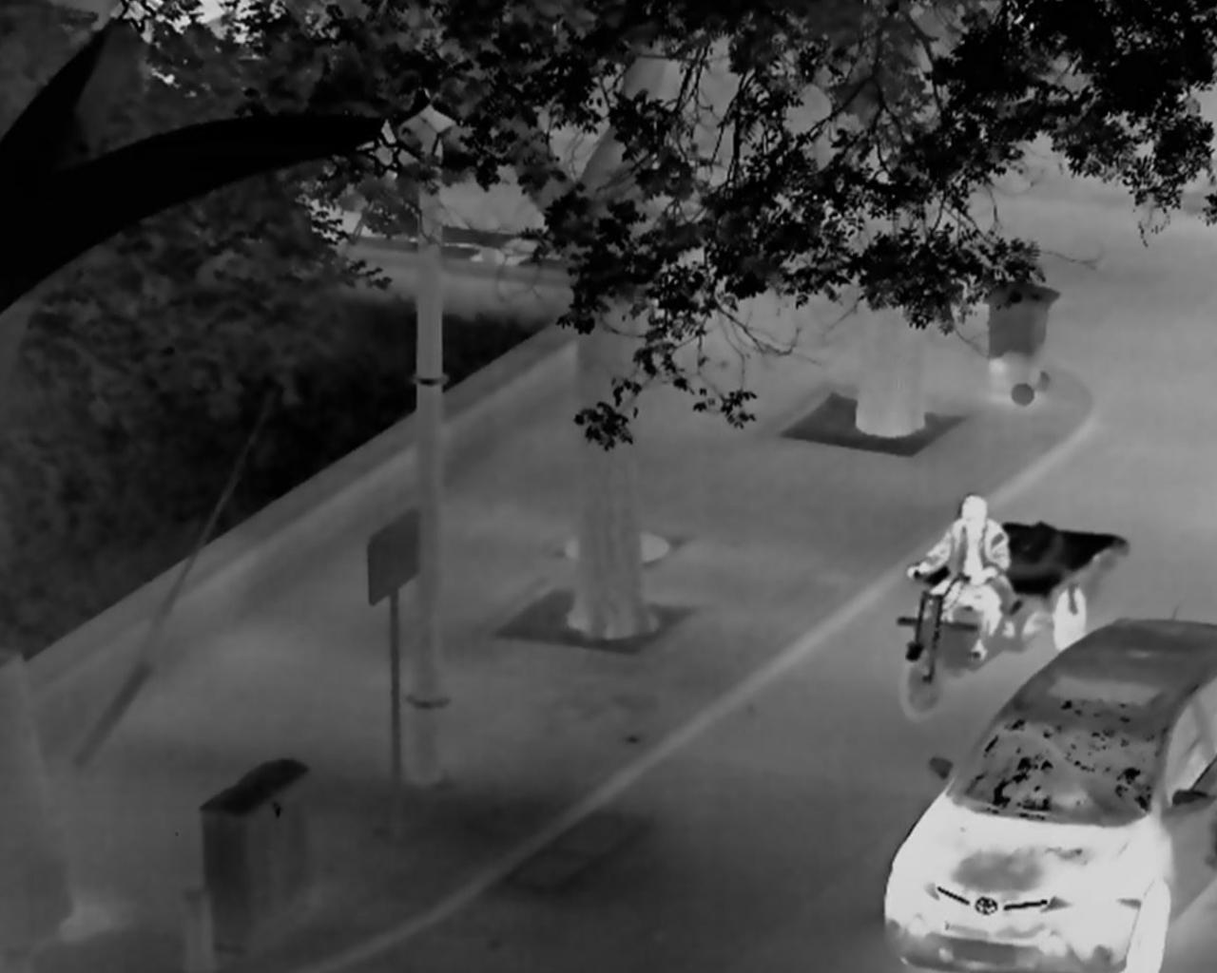person: (909, 495, 1013, 666)
